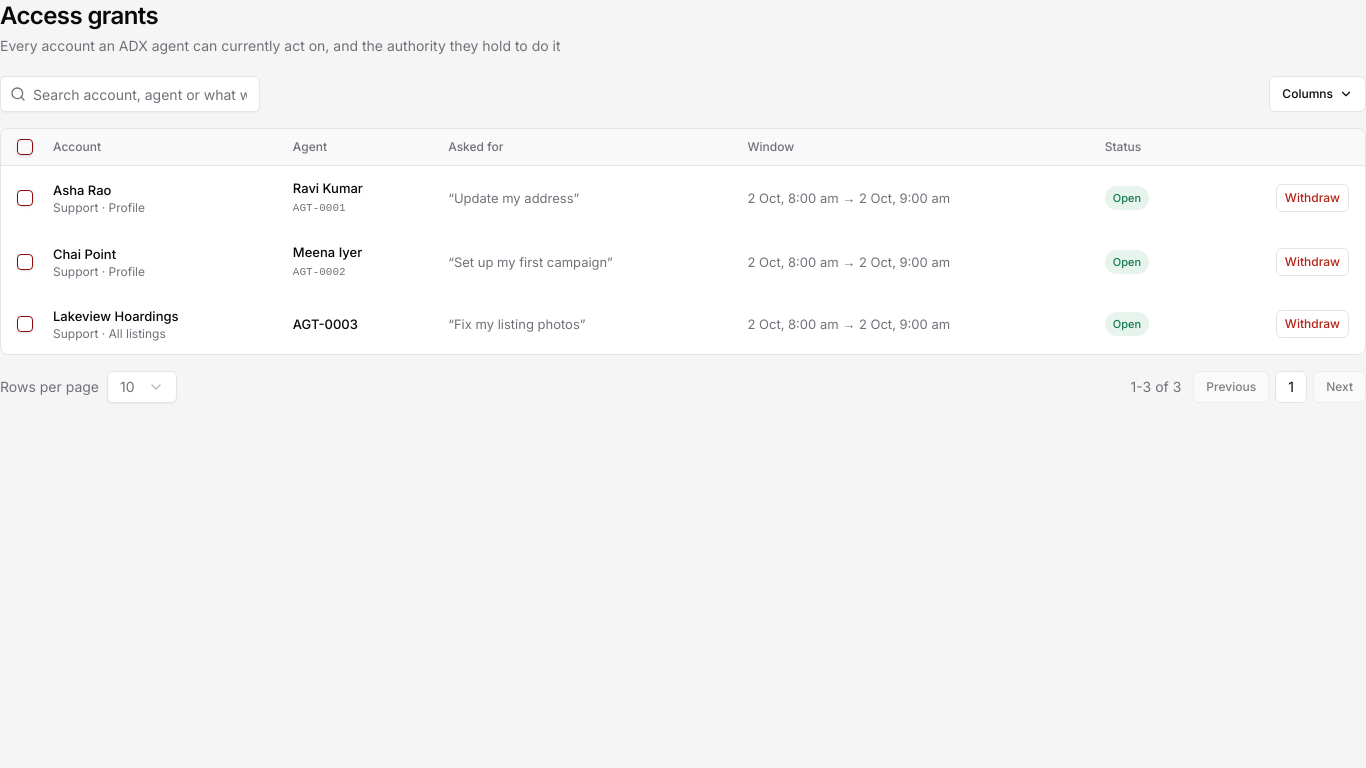
Test: withdrawing › says how many failed and keeps them to try again
Expected: the text "Asha Rao" is shown, [53,182,111,198]
What coordinates should you click on to do the following:
click the checkbox named "Select row" next to "Asha Rao"
I would click on:
 (25, 198)
Its box is [17,190,33,206].
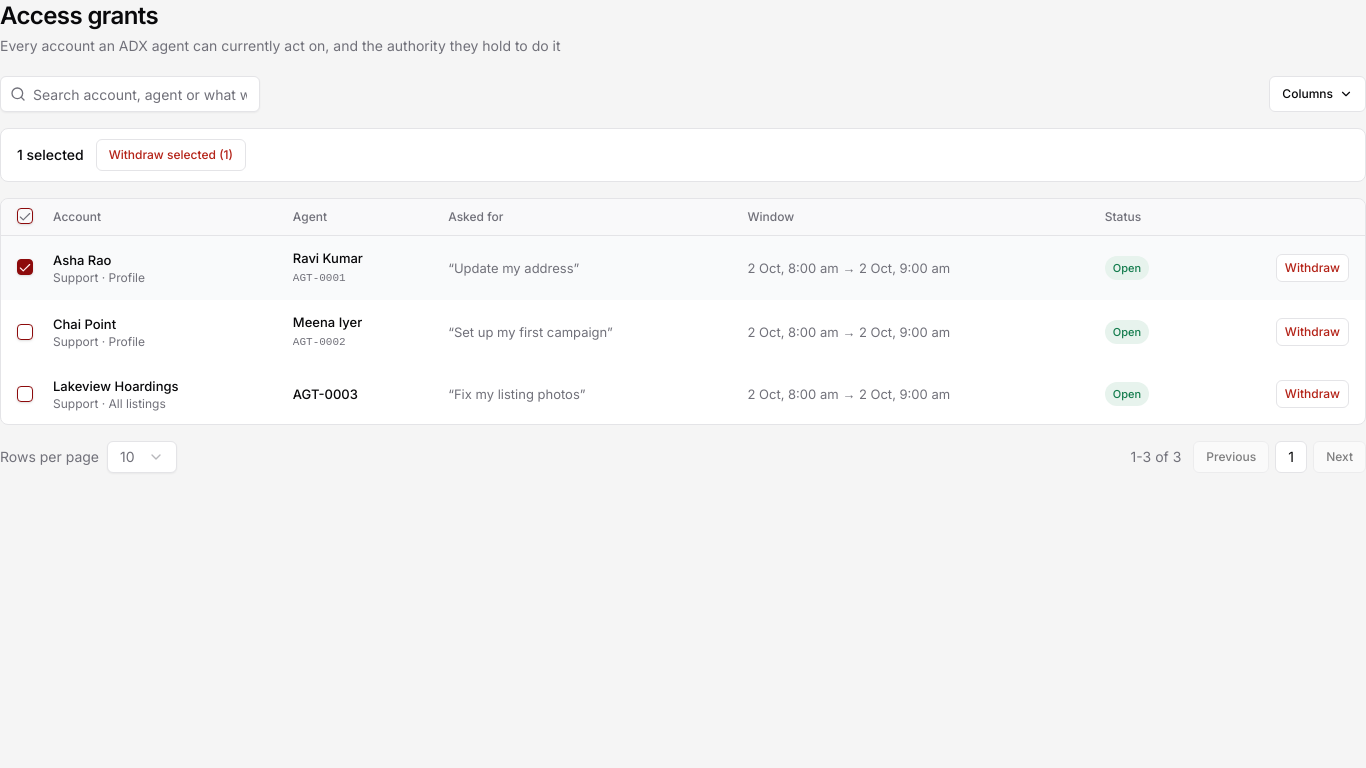
What coordinates should you click on to do the following:
click the checkbox named "Select row" next to "Chai Point"
I would click on:
 (25, 332)
Its box is [17,324,33,340].
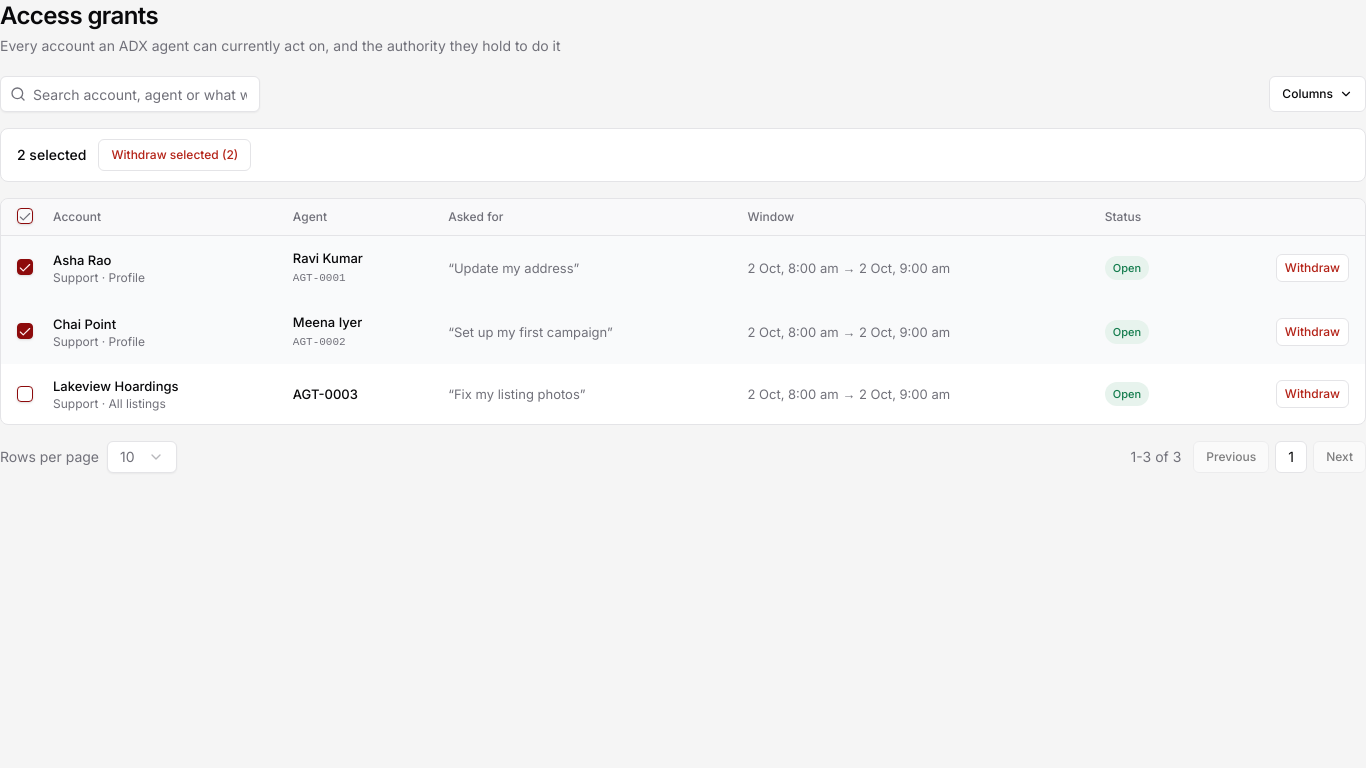
What coordinates should you click on to do the following:
click the button with test id "grant-withdraw-selected"
I would click on:
 (175, 155)
Its box is [98,139,251,171].
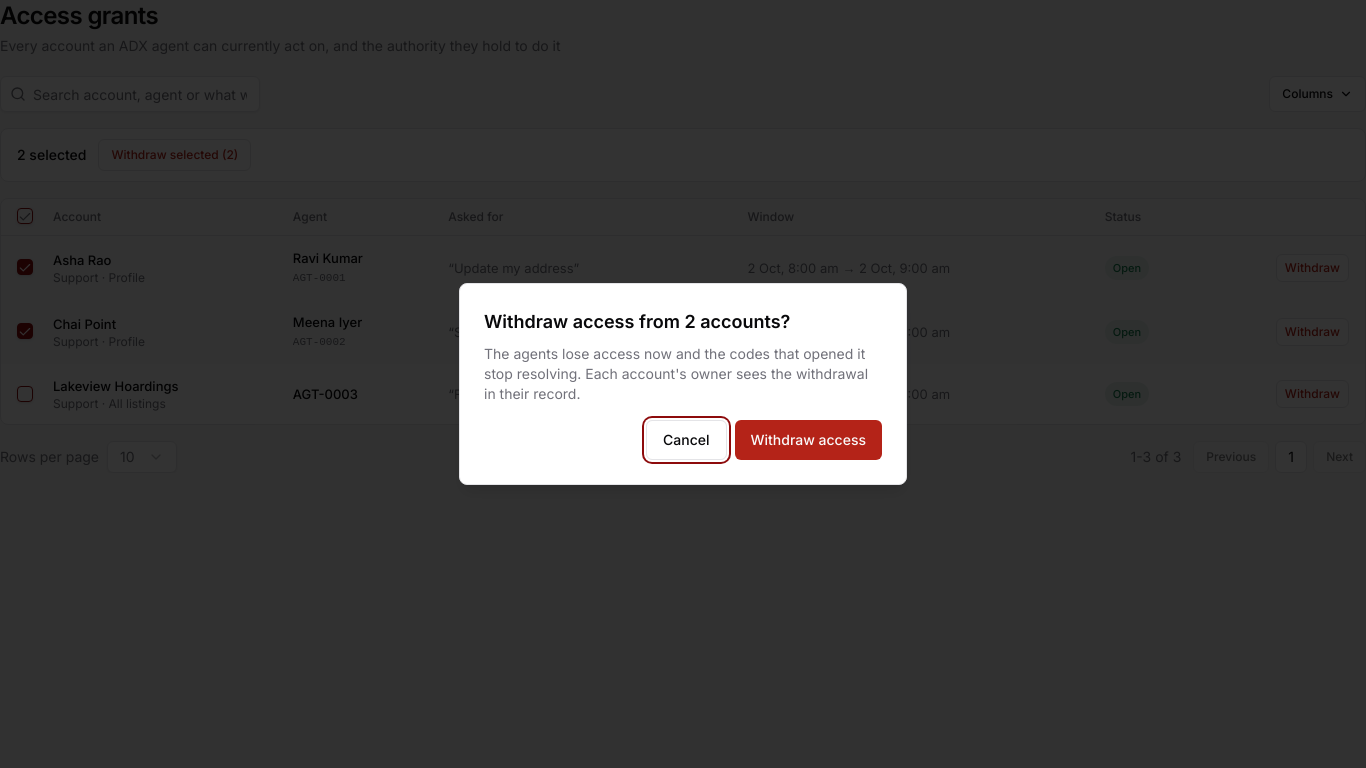
What coordinates should you click on to do the following:
click the button "Withdraw access"
I would click on:
 (808, 440)
Its box is [734,420,882,460].
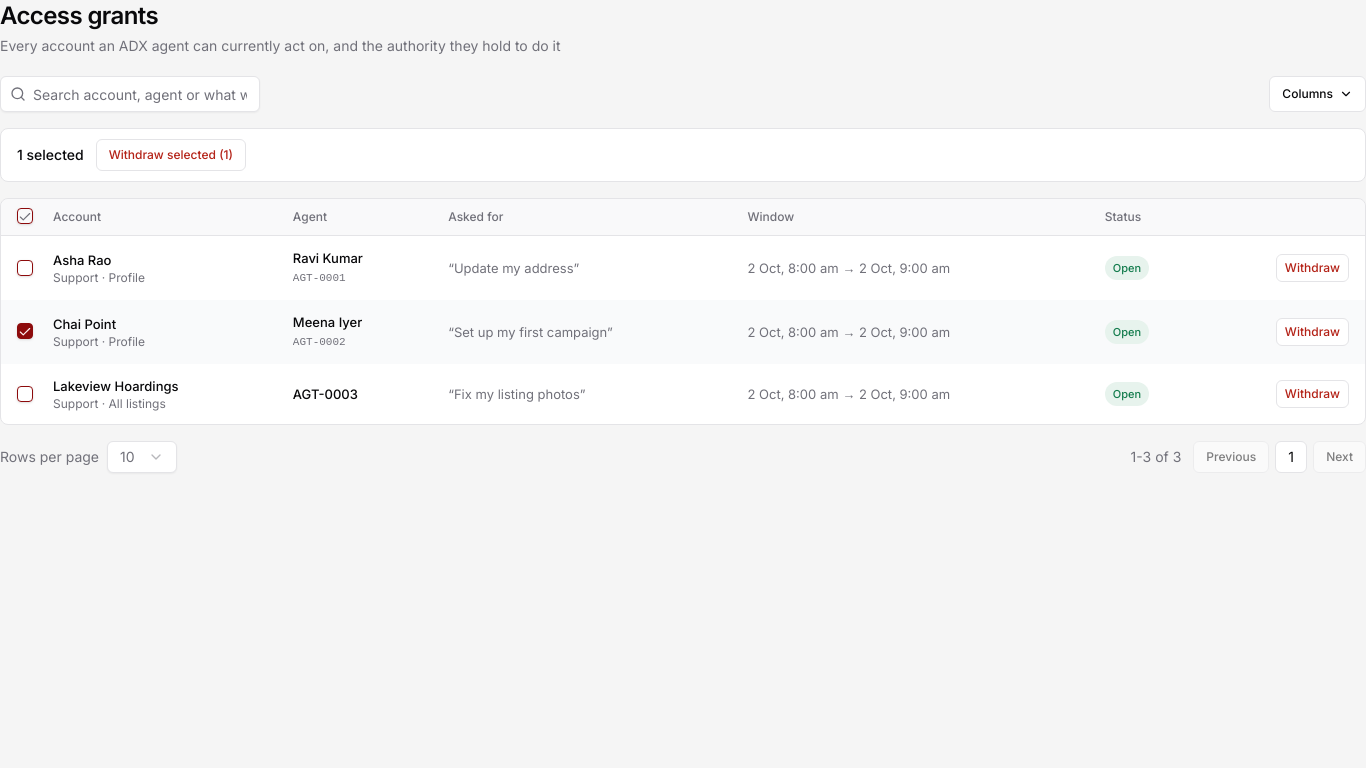
Expected: the button with test id "grant-withdraw-selected" reads "Withdraw selected (1)", [96,139,246,171]
